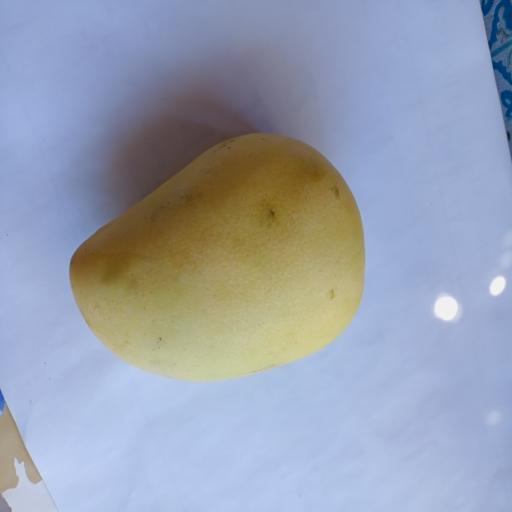mango-ripe: (49, 117, 380, 388)
